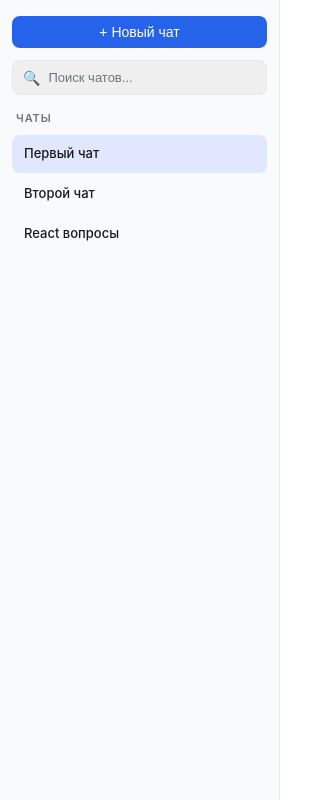
it: Sidebar › фильтрация чатов › поиск регистронезависимый
Step 1. Type "первый" into the field with placeholder "Поиск чатов..." → (152, 78), box [48,70,256,85]
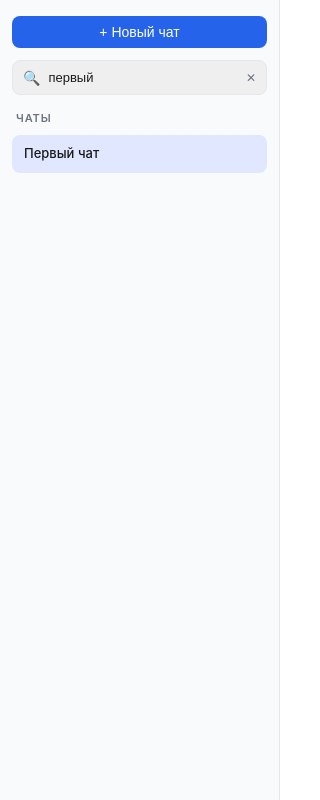
Expected: the text "Первый чат" is shown, [24,145,99,161]
Expected: the text "Второй чат" is gone
